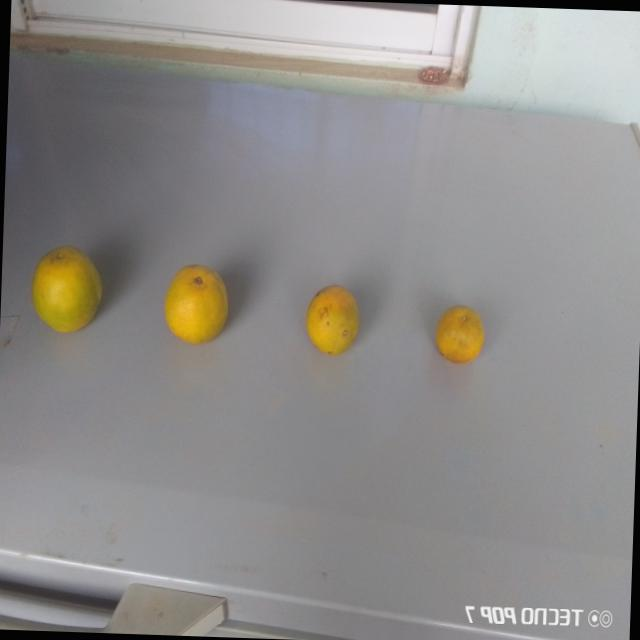Ripe orange: (24, 238, 106, 341), (158, 256, 232, 348), (304, 282, 362, 357), (433, 298, 484, 377)
